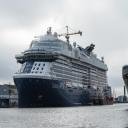cruises: (13, 27, 114, 110)
